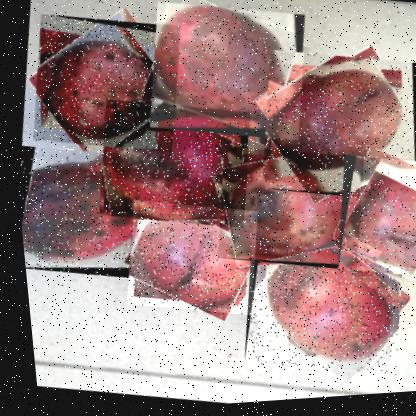pomegranate_rotten: (227, 223, 410, 389), (247, 44, 415, 216), (138, 0, 315, 152), (21, 6, 189, 161), (85, 93, 256, 238), (203, 140, 368, 281), (11, 138, 150, 286), (112, 195, 260, 324), (322, 153, 415, 288)
